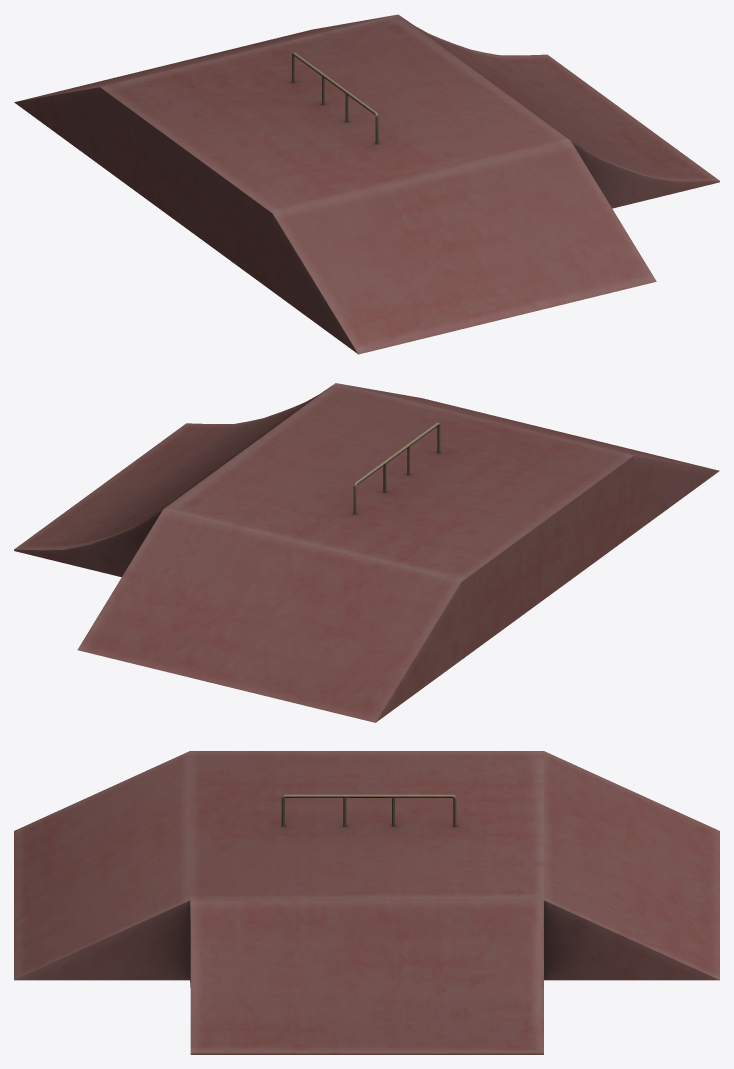
The model's file is Ramp05.fbx.
3 views of the same model, one above another, from view 1: azimuth 30°, elevation 25°; view 2: azimuth 150°, elevation 25°; view 3: azimuth 270°, elevation 25° (orthographic). The views are drawn at different scales.
Parts seen in each view (by area): view 1: Ramp05; view 2: Ramp05; view 3: Ramp05.
Part boxes in pixels (bbox=[...]): Ramp05: bbox=[14, 14, 719, 354]; Ramp05: bbox=[14, 383, 719, 722]; Ramp05: bbox=[14, 751, 719, 1054].
Bounding box in the file's own units: 6 × 1.39 × 8.
